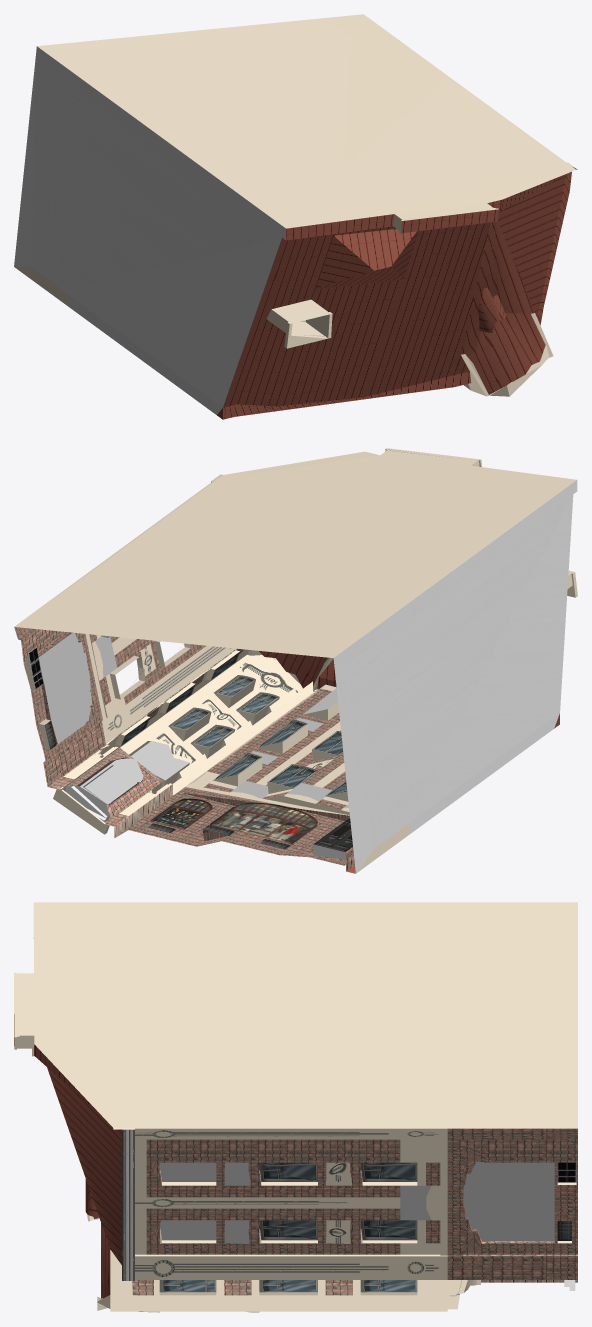
File: viru_19-origo.obj
3 renders of one model, top to bottom at view 1: azimuth 30°, elevation 25°; view 2: azimuth 150°, elevation 25°; view 3: azimuth 270°, elevation 25°, orthographic. The views are drawn at different scales.
Visible parts, largest first — view 1: Box001; view 2: Box001; view 3: Box001.
Part boxes in pixels (bbox=[...]): Box001: bbox=[14, 14, 577, 419]; Box001: bbox=[14, 448, 577, 873]; Box001: bbox=[14, 902, 577, 1312].
Size of the model in its own units: 15.38 by 10.5 by 19.59.
